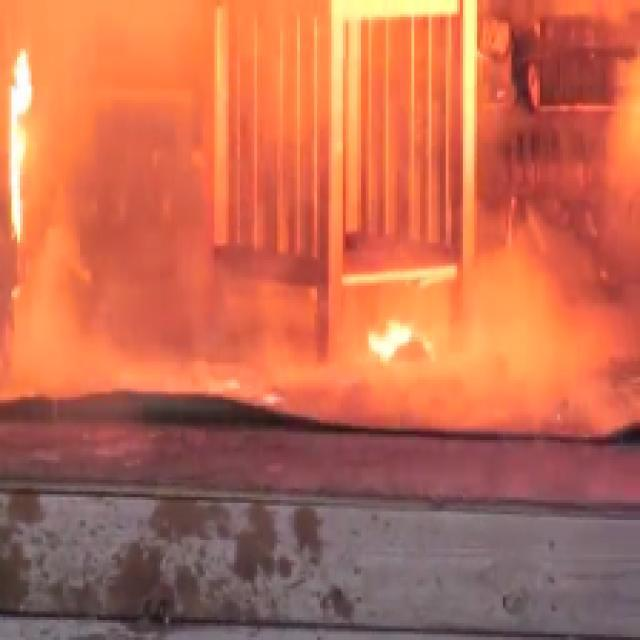Fire: (10, 62, 39, 255)
Smoke: (66, 6, 202, 375), (472, 268, 590, 393)
